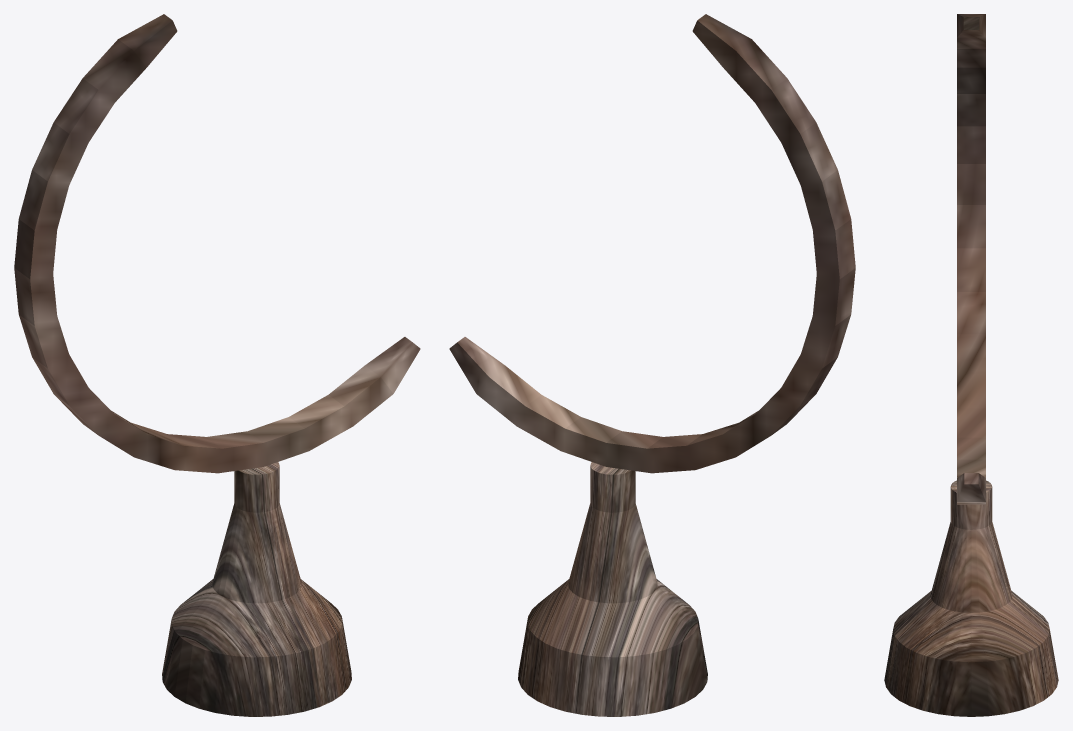
File: globeholder.glb
3 renders of one model, left to right at view 1: azimuth 30°, elevation 25°; view 2: azimuth 150°, elevation 25°; view 3: azimuth 270°, elevation 25°, orthographic. The views are drawn at different scales.
Parts seen in each view (by area): view 1: Circle; view 2: Circle; view 3: Circle.
Part boxes in pixels (x1,y1,x2,y2): Circle: (14,14,420,716); Circle: (449,14,855,716); Circle: (884,14,1058,716).
Bounding box in the file's own units: 1.69 × 2.79 × 0.706.
Materials: 1 (1 with a texture image).
